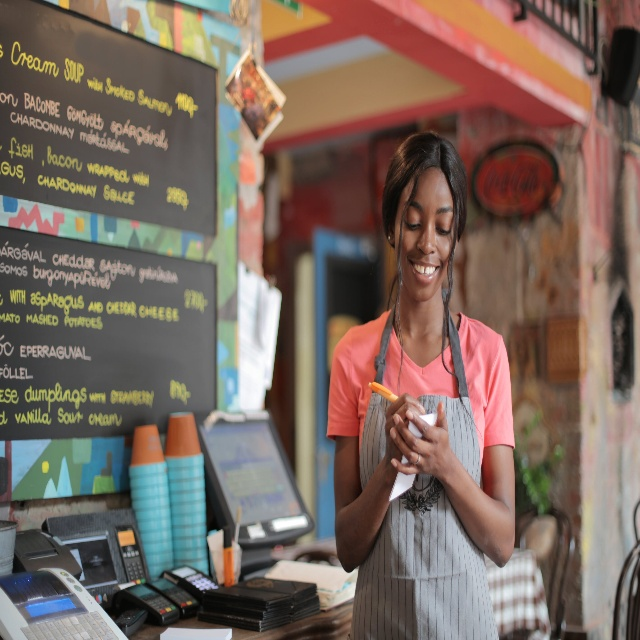Sin_guantes: (389, 400, 449, 477), (382, 392, 426, 473)
